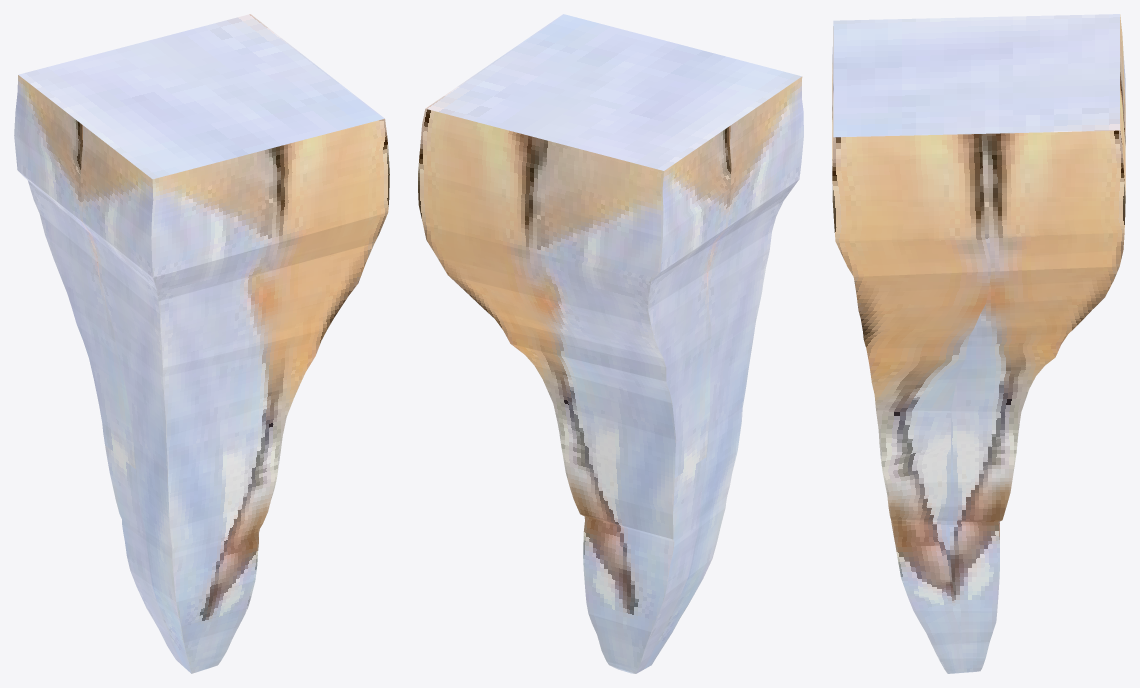
3 renders of one model, left to right at view 1: azimuth 30°, elevation 25°; view 2: azimuth 150°, elevation 25°; view 3: azimuth 270°, elevation 25°, orthographic. The views are drawn at different scales.
Visible parts, largest first — view 1: SPLICE_1.001; view 2: SPLICE_1.001; view 3: SPLICE_1.001.
Part boxes in pixels (box(x1,y1,x2,y2)): SPLICE_1.001: box(14, 14, 389, 673); SPLICE_1.001: box(418, 14, 803, 673); SPLICE_1.001: box(832, 14, 1125, 673).
Bounding box in the file's own units: 0.8859 × 2.02 × 0.8841.
Materials: 1 (1 with a texture image).
